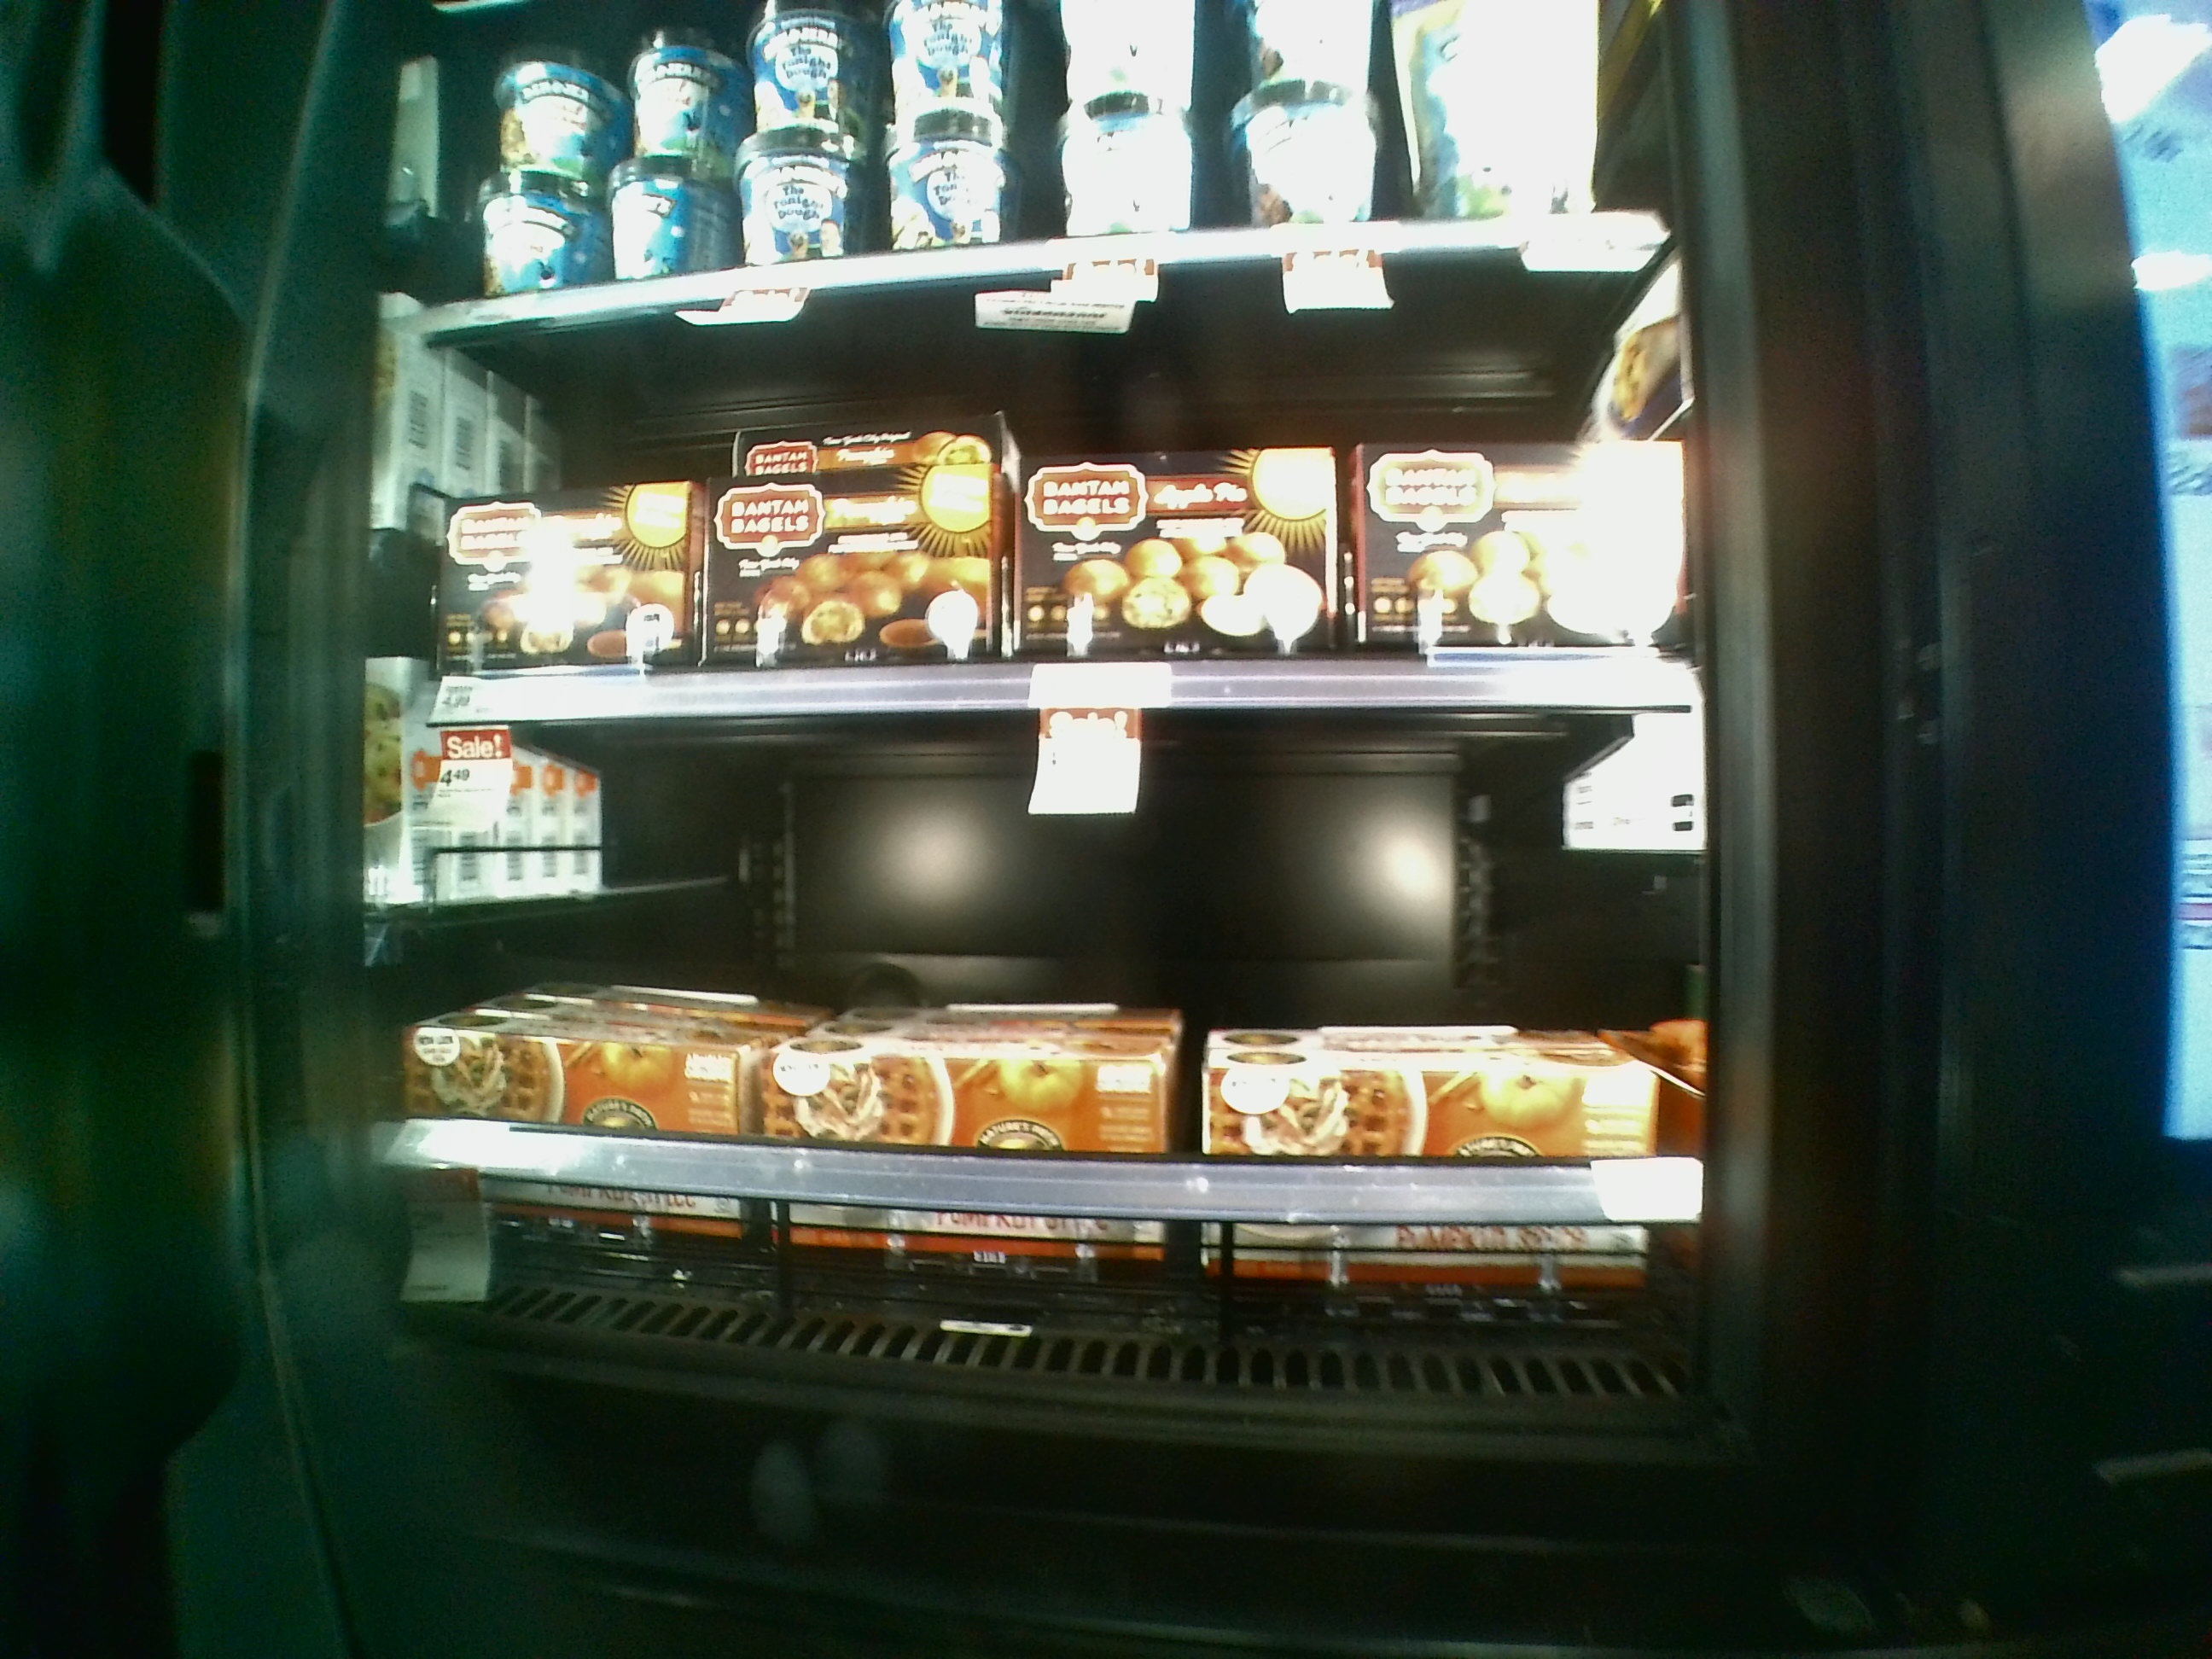shelf: (444, 657, 1683, 1406), (427, 305, 1700, 706)
